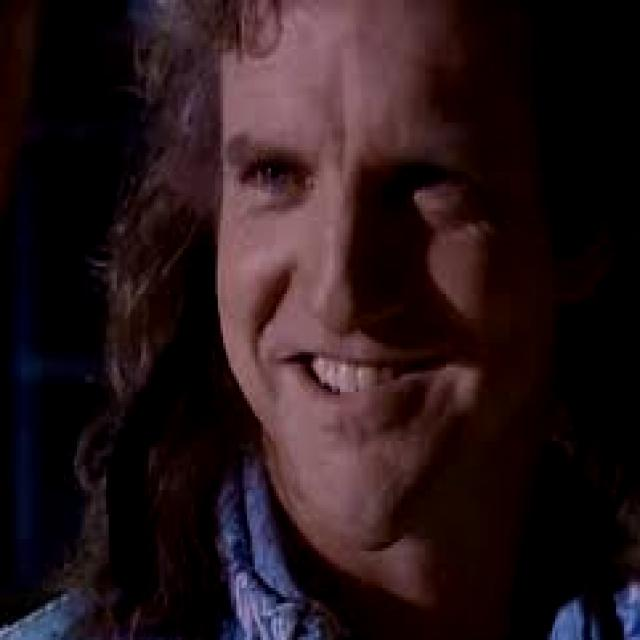stroke_face: (184, 8, 584, 606)
